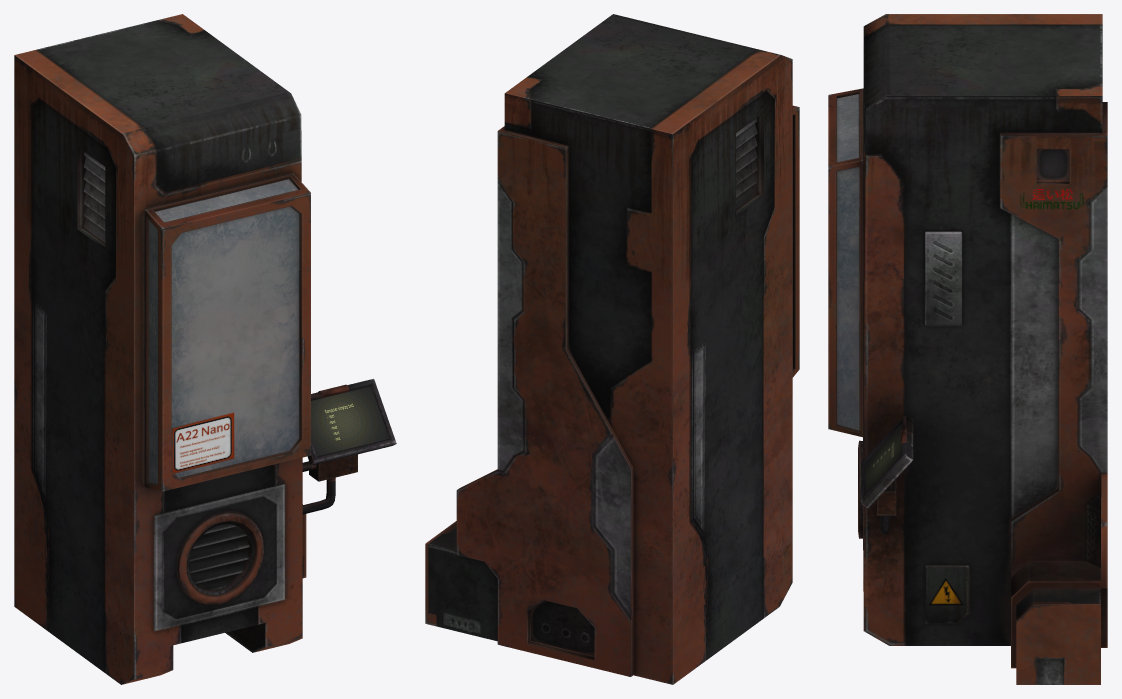
File: server_underwater.dae
3 views of the same model, side by side, from view 1: azimuth 30°, elevation 25°; view 2: azimuth 150°, elevation 25°; view 3: azimuth 270°, elevation 25° (orthographic).
Visible parts, largest first — view 1: server_underwater, server_underwater_glass, server_underwater_display; view 2: server_underwater; view 3: server_underwater, server_underwater_glass, server_underwater_display.
Part boxes in pixels (x1,y1,x2,y2): server_underwater: (14, 14, 396, 684); server_underwater_glass: (148, 179, 299, 483); server_underwater_display: (311, 386, 388, 456); server_underwater: (425, 14, 799, 684); server_underwater: (828, 14, 1107, 684); server_underwater_glass: (837, 94, 859, 430); server_underwater_display: (866, 423, 901, 493).
Bounding box in the file's own units: 125 × 251 × 116.
